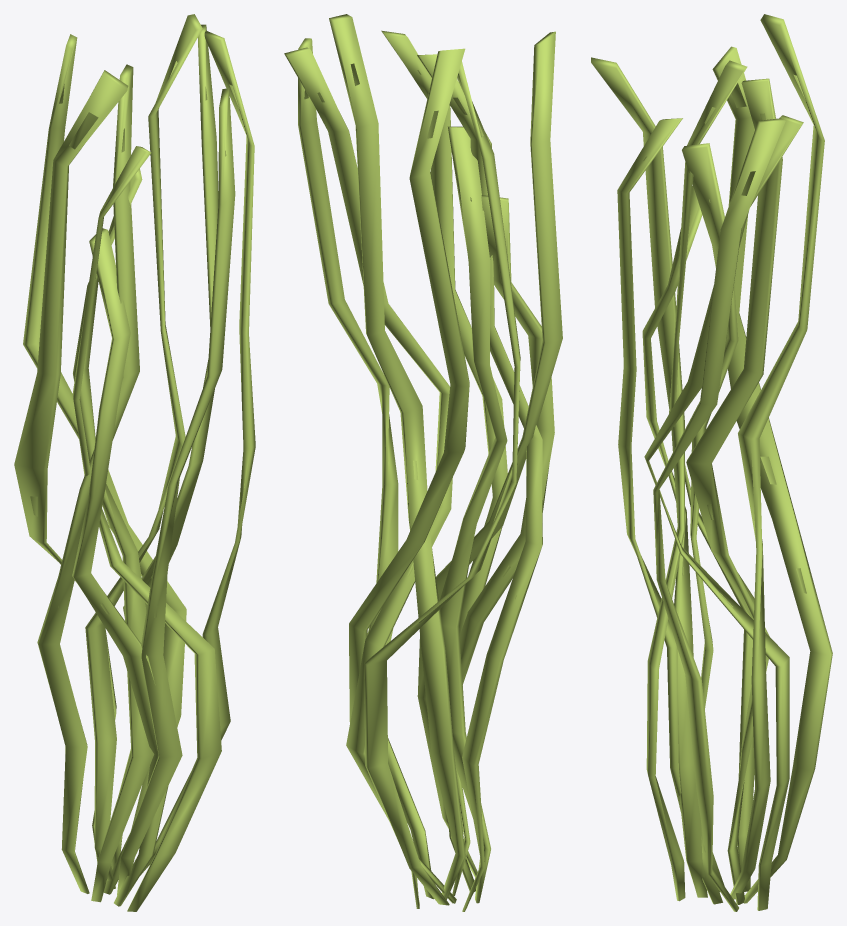
The model's file is tall.glb.
3 views of the same model, side by side, from view 1: azimuth 30°, elevation 25°; view 2: azimuth 150°, elevation 25°; view 3: azimuth 270°, elevation 25° (orthographic). The views are drawn at different scales.
Parts seen in each view (by area): view 1: node_id122; view 2: node_id122; view 3: node_id122.
Part boxes in pixels (<box>): node_id122: <box>14,14,255,911</box>; node_id122: <box>284,14,562,911</box>; node_id122: <box>591,14,832,911</box>.
Size of the model in its own units: 0.0546 by 0.1967 by 0.0493.
1 material, 1 textured.
